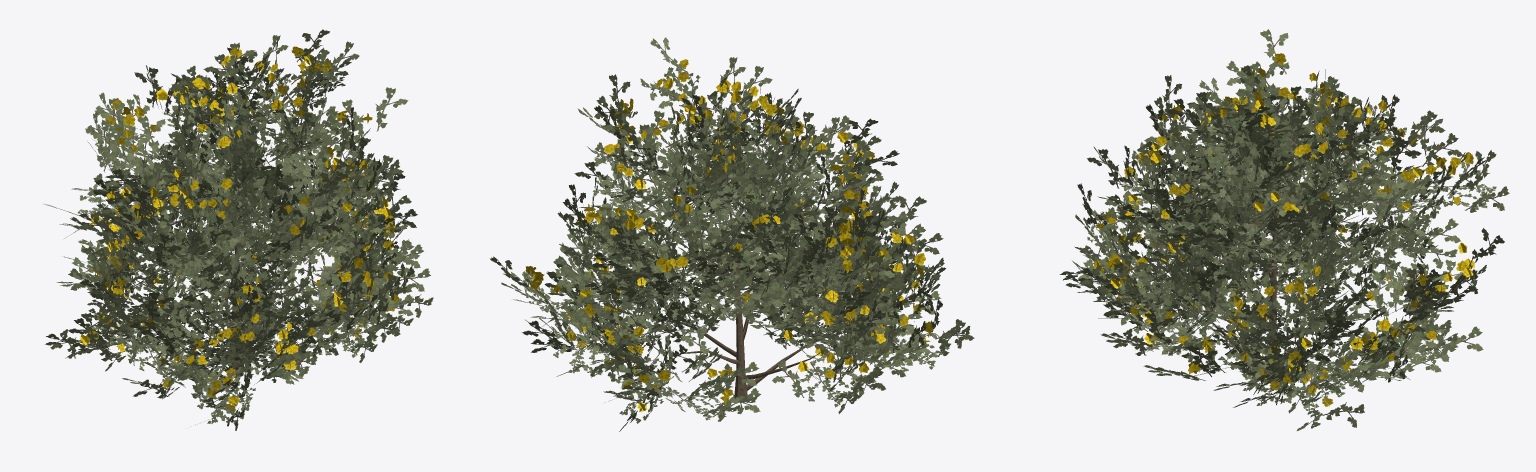
File: Fremontodendron_Californicum_Spring_Adult.glb
The picture shows the model from 3 angles, left to right: view 1: azimuth 30°, elevation 25°; view 2: azimuth 150°, elevation 25°; view 3: azimuth 270°, elevation 25°; orthographic projection. The views are drawn at different scales.
Visible parts, largest first — view 1: Fremontodendron_Californicum_Spring_Adult__LOD3; view 2: Fremontodendron_Californicum_Spring_Adult__LOD3; view 3: Fremontodendron_Californicum_Spring_Adult__LOD3.
Part boxes in pixels (<box>): Fremontodendron_Californicum_Spring_Adult__LOD3: <box>43,29,433,430</box>; Fremontodendron_Californicum_Spring_Adult__LOD3: <box>490,37,974,431</box>; Fremontodendron_Californicum_Spring_Adult__LOD3: <box>1059,29,1509,430</box>.
Size of the model in its own units: 3.44 by 2.32 by 3.05.
3 materials, 3 textured.
